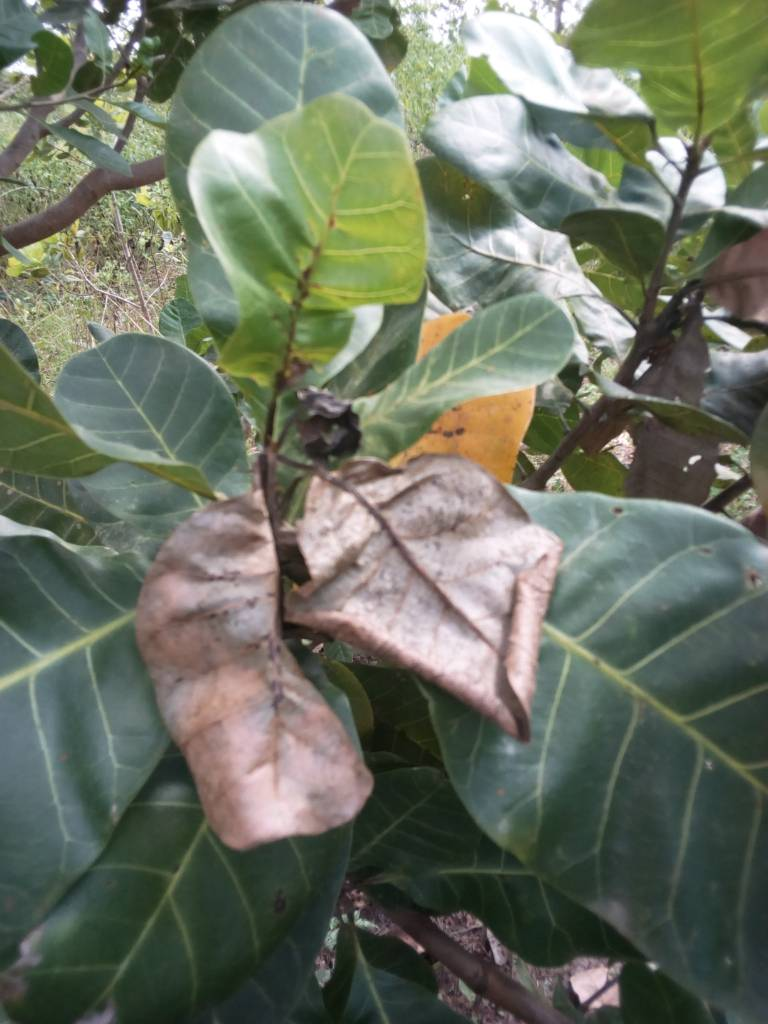Dessèchement des bourgeons: (641, 235, 760, 336), (258, 394, 362, 488)
